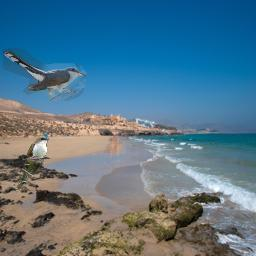Cuckoo: (3, 48, 87, 101), (15, 135, 49, 191)
